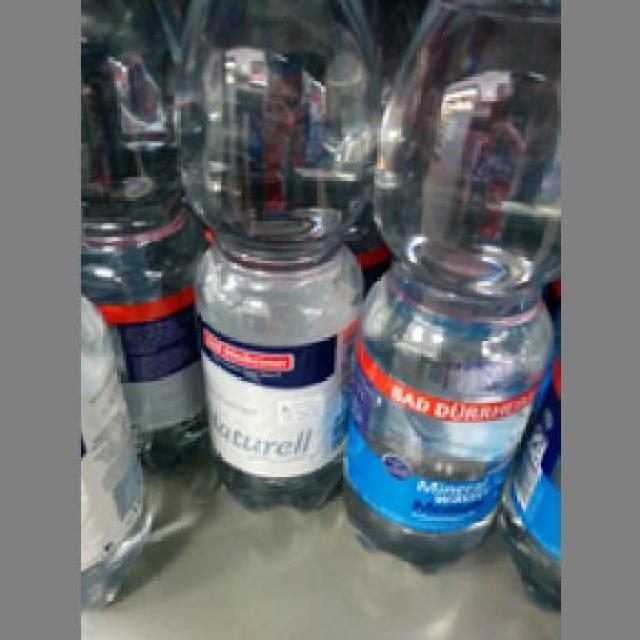Water: (338, 0, 555, 572), (161, 0, 378, 515)
